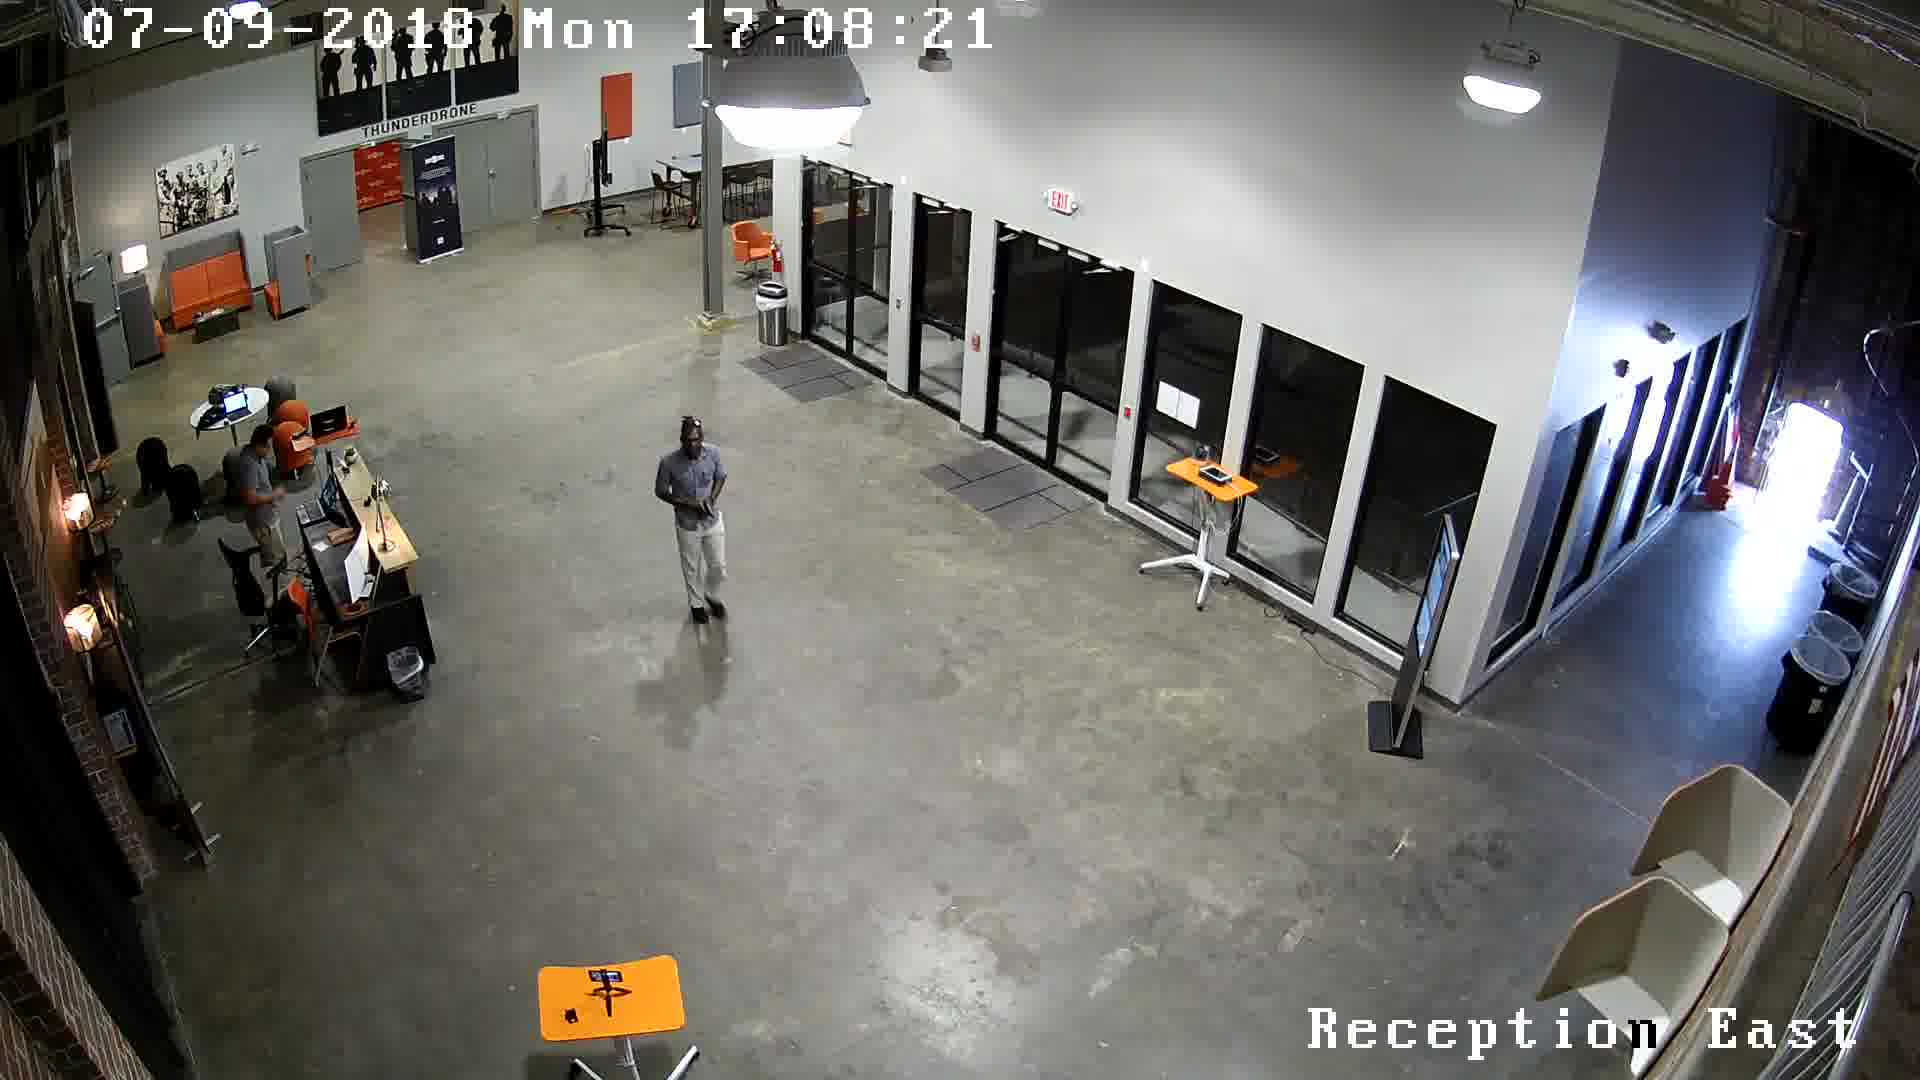pistol: (684, 485, 725, 527)
